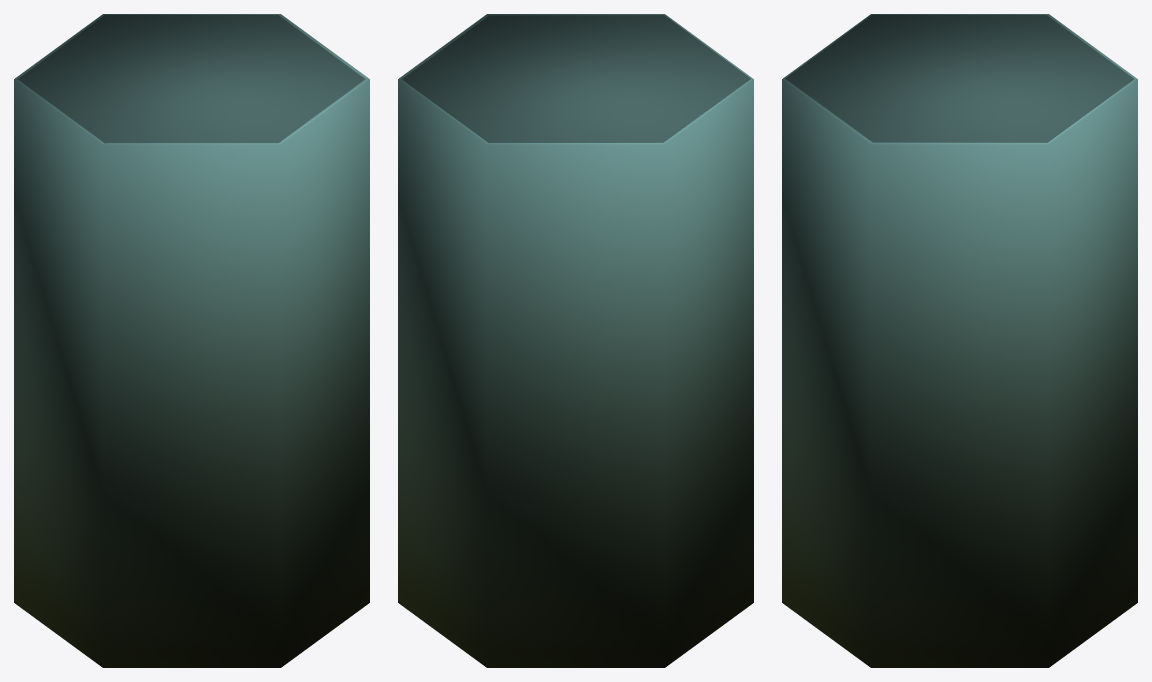
Rendered from block.fbx.
The picture shows the model from 3 angles, left to right: view 1: azimuth 30°, elevation 25°; view 2: azimuth 150°, elevation 25°; view 3: azimuth 270°, elevation 25°; orthographic projection.
Parts seen in each view (by area): view 1: Cylinder; view 2: Cylinder; view 3: Cylinder.
Part boxes in pixels (x1,y1,x2,y2): Cylinder: [14, 14, 369, 667]; Cylinder: [398, 14, 753, 667]; Cylinder: [782, 14, 1137, 667].
Size of the model in its own units: 1.73 by 3.25 by 2.
